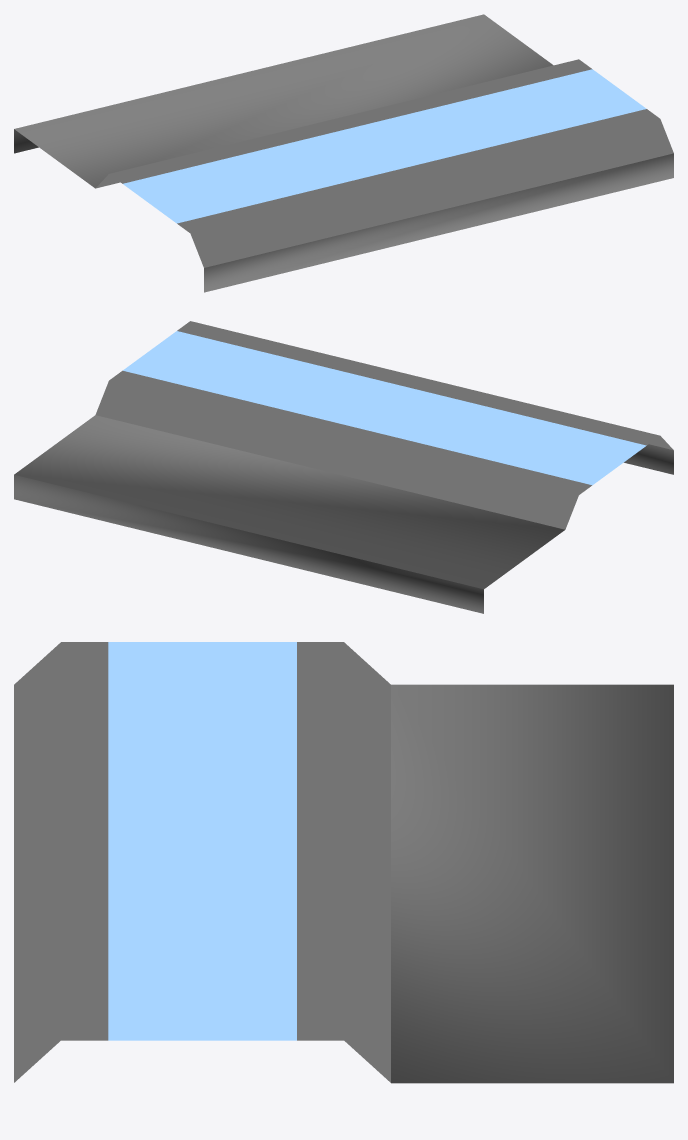
File: barrierSide.glb
The picture shows the model from 3 angles, top to bottom: view 1: azimuth 30°, elevation 25°; view 2: azimuth 150°, elevation 25°; view 3: azimuth 270°, elevation 25°; orthographic projection. The views are drawn at different scales.
Parts seen in each view (by area): view 1: Frame, Filler; view 2: Frame, Filler; view 3: Frame, Filler.
Part boxes in pixels (x1,y1,x2,y2): Frame: [14, 14, 673, 292]; Filler: [123, 69, 646, 223]; Frame: [14, 321, 673, 613]; Filler: [123, 331, 646, 485]; Frame: [14, 642, 673, 1083]; Filler: [108, 642, 296, 1040].
Size of what is drawn, in the model's own units: 2 by 0.2 by 1.4.
